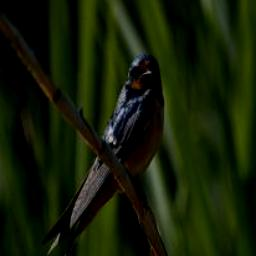Swallow: (39, 51, 164, 256)
